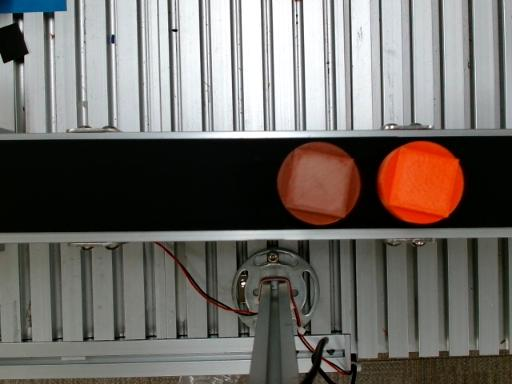Square: (390, 146, 459, 217), (286, 148, 354, 217)
